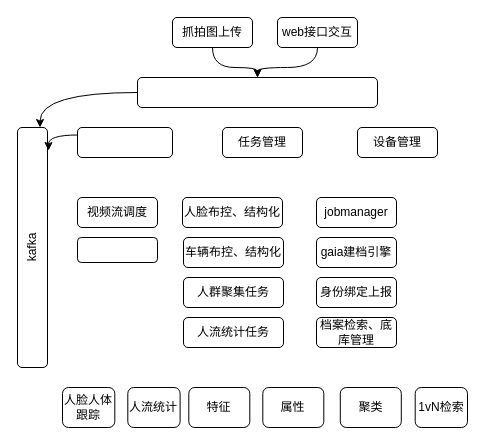
This 485x445 diagram has some shape labels left out. Each missing label, with the box of its shape:
任务执行: (76, 236, 158, 262)
接入层: (136, 76, 378, 108)
预处理: (76, 126, 172, 158)
